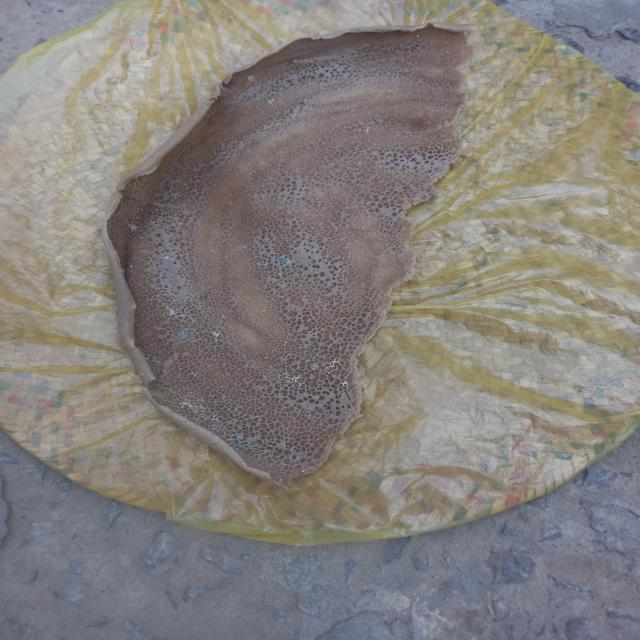injera_mold: (179, 394, 204, 410), (279, 370, 304, 385), (323, 359, 343, 373), (178, 330, 196, 340), (276, 256, 290, 266), (218, 397, 232, 405), (164, 306, 177, 314), (225, 407, 239, 414), (230, 436, 242, 444), (210, 424, 222, 432), (127, 222, 139, 230), (290, 447, 302, 454), (247, 442, 257, 450), (171, 192, 182, 199), (210, 414, 219, 422), (160, 381, 172, 387), (266, 99, 277, 105), (239, 246, 248, 252), (256, 262, 268, 266), (189, 418, 197, 423), (258, 309, 266, 314), (175, 411, 184, 415), (342, 380, 348, 386), (190, 372, 197, 377), (213, 332, 220, 337), (196, 302, 204, 306), (294, 456, 300, 461), (283, 341, 289, 346), (278, 273, 284, 278), (278, 478, 285, 482), (221, 315, 226, 319), (164, 256, 170, 259), (300, 470, 306, 472), (180, 315, 186, 317), (215, 339, 218, 341), (336, 266, 338, 268), (339, 269, 342, 270)
